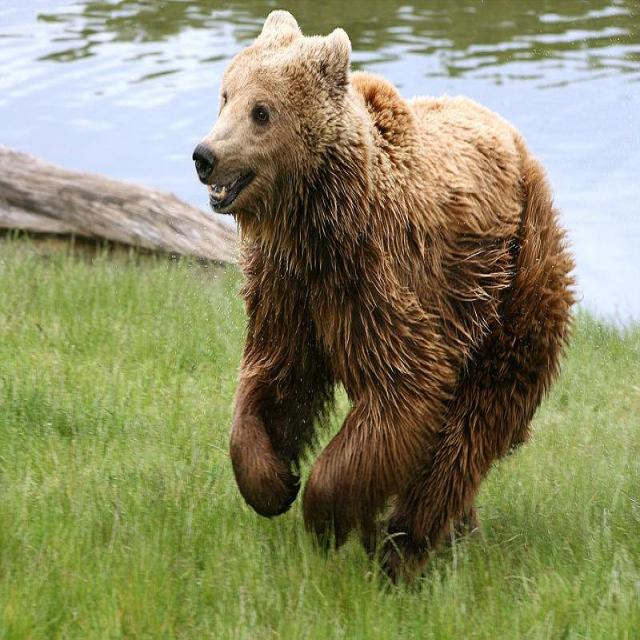Bear: (191, 11, 582, 586)
